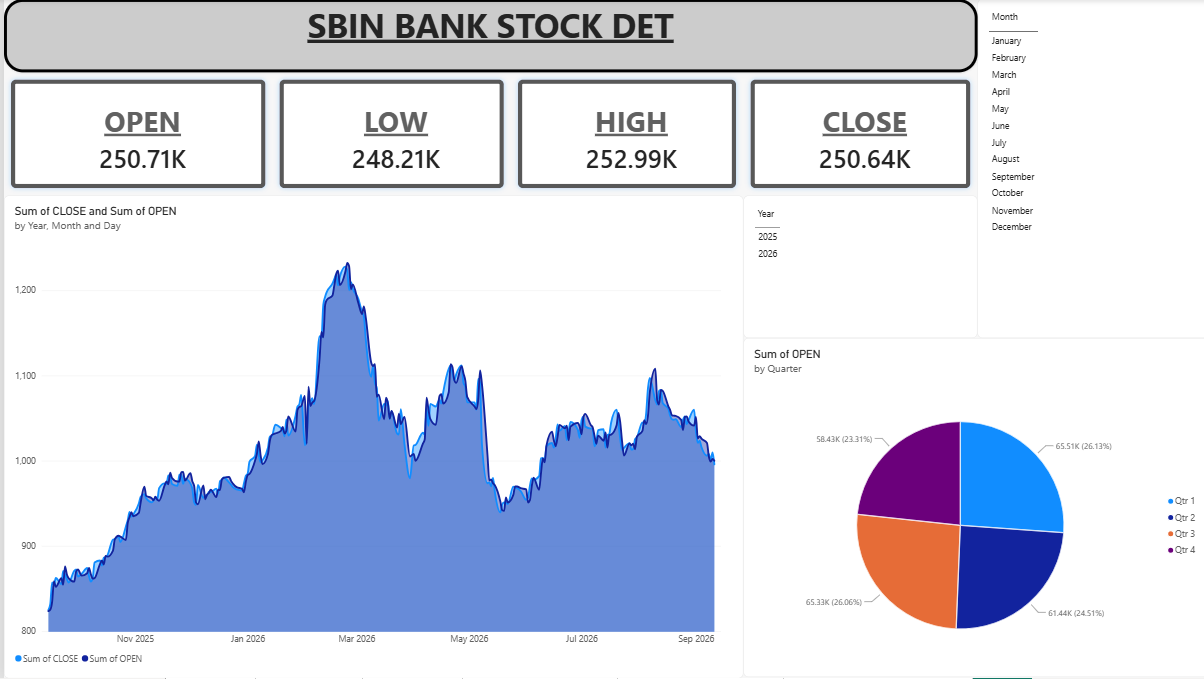

This screenshot's page, from the dashboard's own definition file:
{"tool":"powerbi","page":{"name":"SBIN","canvas":[1920,1080],"ordinal":2},"visuals":[{"type":"areaChart","fields":{"Category":["SBIN.DATE.Variation.Date Hierarchy.Year","SBIN.DATE.Variation.Date Hierarchy.Month","SBIN.DATE.Variation.Date Hierarchy.Day"],"Y":["Sum(SBIN.CLOSE)","Sum(SBIN.OPEN)"]},"box":[0,312.6,1176.3,768.3],"z":0},{"type":"cardVisual","fields":{"Data":["Sum(SBIN.LOW)"]},"box":[427.1,116.9,379.4,195.6],"z":1},{"type":"cardVisual","fields":{"Data":["Sum(SBIN.OPEN)"]},"box":[0,116.9,427.1,195.6],"z":2},{"type":"cardVisual","fields":{"Data":["Sum(SBIN.HIGH)"]},"box":[806.4,116.9,369.8,195.6],"z":3},{"type":"cardVisual","fields":{"Data":["Sum(SBIN.CLOSE)"]},"box":[1176.3,116.9,372.2,195.6],"z":4},{"type":"pieChart","fields":{"Category":["SBIN.DATE.Variation.Date Hierarchy.Quarter"],"Y":["Sum(SBIN.OPEN)"]},"box":[1176.3,539.2,744.4,539.2],"z":5},{"type":"tableEx","fields":{"Values":["SBIN.DATE.Variation.Date Hierarchy.Month"]},"box":[1548.5,0,372.2,539.2],"z":6},{"type":"tableEx","fields":{"Values":["SBIN.DATE.Variation.Date Hierarchy.Year"]},"box":[1176.3,312.6,372.2,226.7],"z":7},{"type":"textbox","box":[0,0,1548.5,116.9],"z":8}]}

Visuals, with their boxes in screenshot pixels (x1, y1, x2, y2), scaled from the page's 1920x1080 canvas onto the 1204x679 screenshot:
areaChart - SBIN.DATE.Variation.Date Hierarchy.Year x SBIN.DATE.Variation.Date Hierarchy.Month: 0, 197, 738, 678
cardVisual - Sum(SBIN.LOW): 268, 73, 506, 196
cardVisual - Sum(SBIN.OPEN): 0, 73, 268, 196
cardVisual - Sum(SBIN.HIGH): 506, 73, 738, 196
cardVisual - Sum(SBIN.CLOSE): 738, 73, 971, 196
pieChart - SBIN.DATE.Variation.Date Hierarchy.Quarter x Sum(SBIN.OPEN): 738, 339, 1203, 678
tableEx - SBIN.DATE.Variation.Date Hierarchy.Month: 971, 0, 1203, 339
tableEx - SBIN.DATE.Variation.Date Hierarchy.Year: 738, 197, 971, 339
textbox: 0, 0, 971, 73
